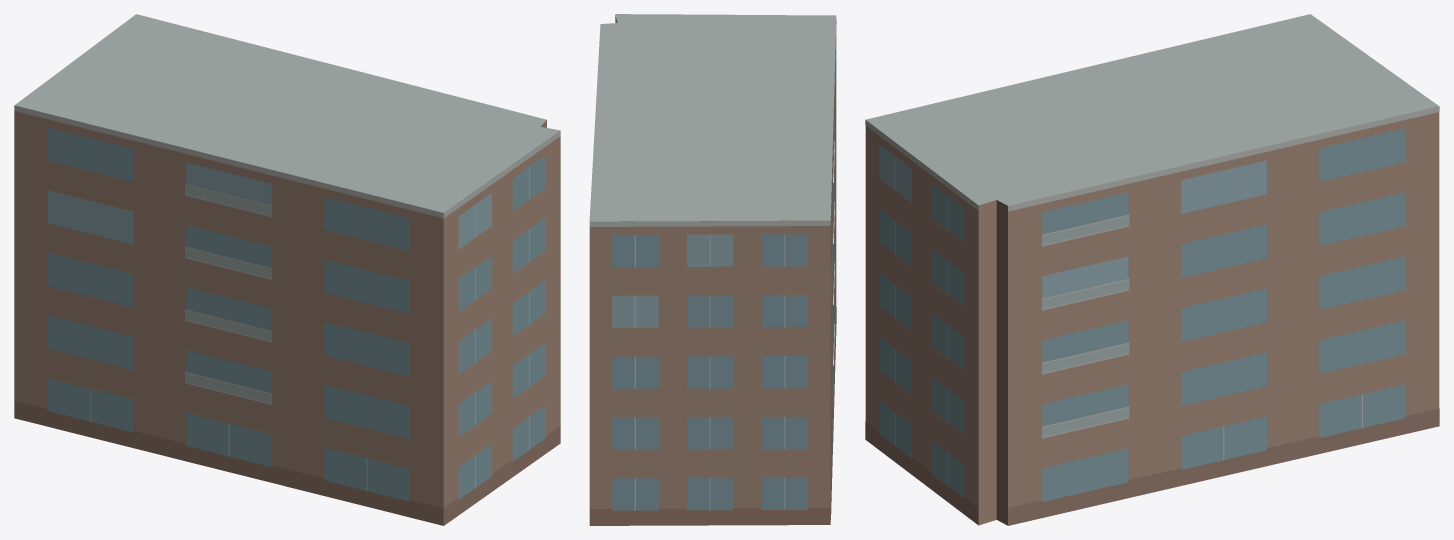
The model's file is survey-upis-32711788.glb.
3 views of the same model, side by side, from view 1: azimuth 30°, elevation 25°; view 2: azimuth 150°, elevation 25°; view 3: azimuth 270°, elevation 25° (orthographic). The views are drawn at different scales.
Parts seen in each view (by area): view 1: survey-upis-32711788.tmp; view 2: survey-upis-32711788.tmp; view 3: survey-upis-32711788.tmp.
Boxes of the visible parts, x1,y1,x2,y2 form: survey-upis-32711788.tmp: (14, 14, 560, 525); survey-upis-32711788.tmp: (589, 14, 836, 525); survey-upis-32711788.tmp: (865, 14, 1439, 525).
Bounding box in the file's own units: 17.7 × 13.75 × 22.37.
